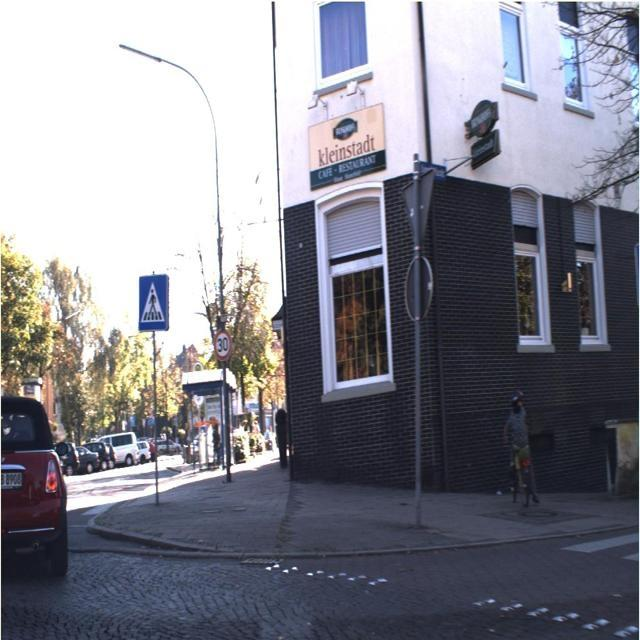forb_speed_over_30: (214, 329, 232, 361)
